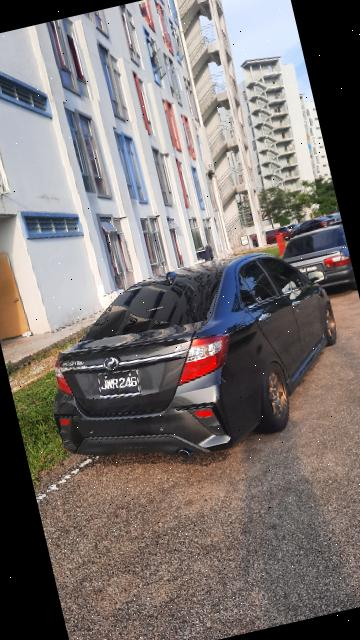License_Plate: (96, 364, 150, 408)
car: (24, 222, 360, 490), (270, 218, 358, 306)
